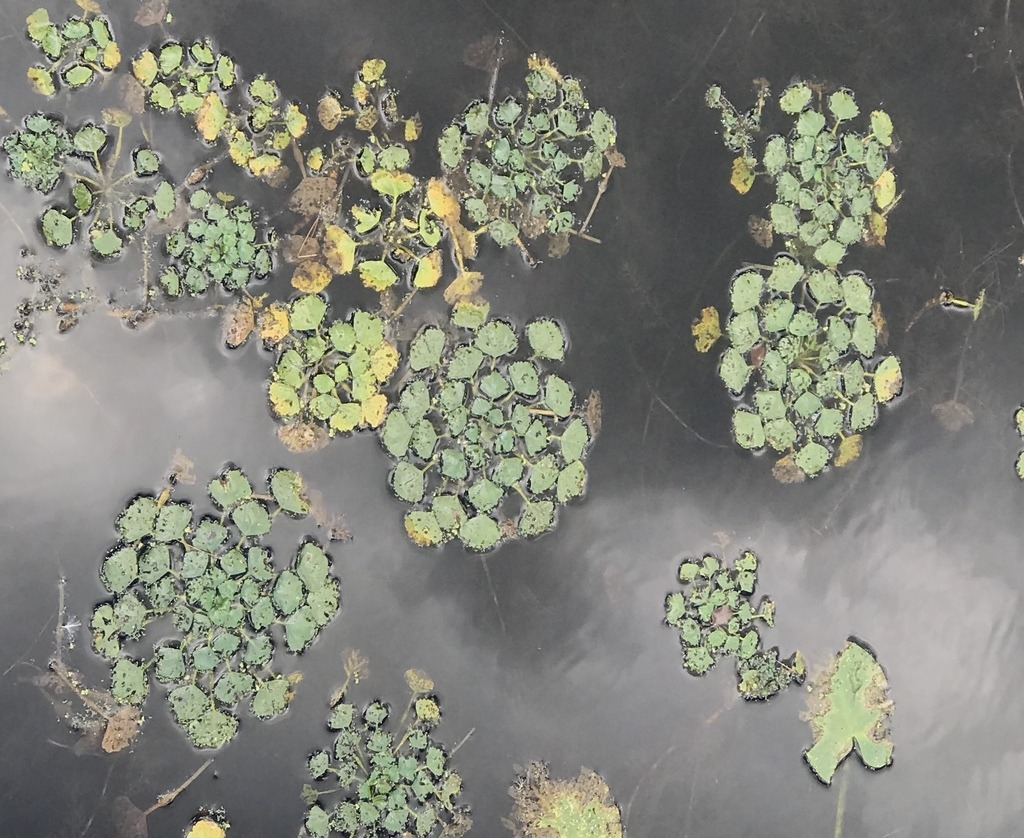water chestnut: (696, 73, 909, 482), (88, 463, 343, 752), (378, 310, 597, 554), (801, 638, 898, 787)
